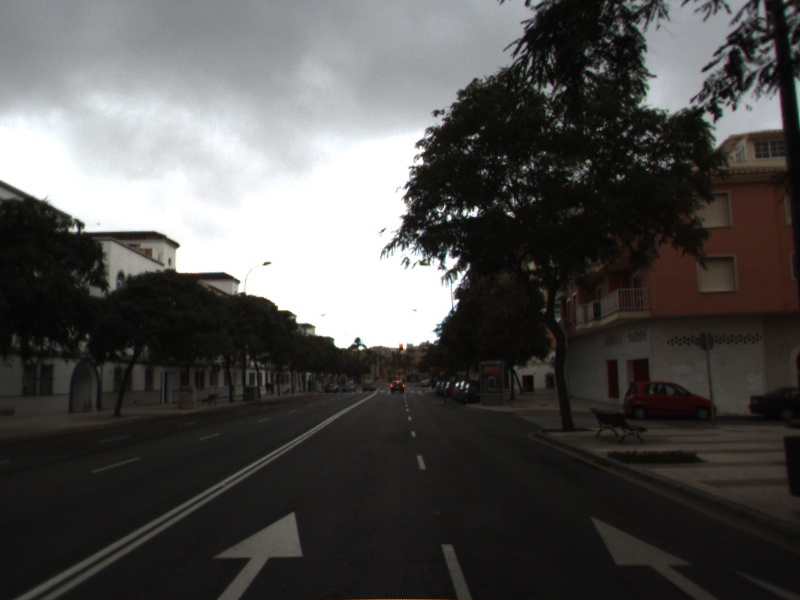STRAIGHT: (587, 513, 726, 600), (209, 509, 306, 600)
